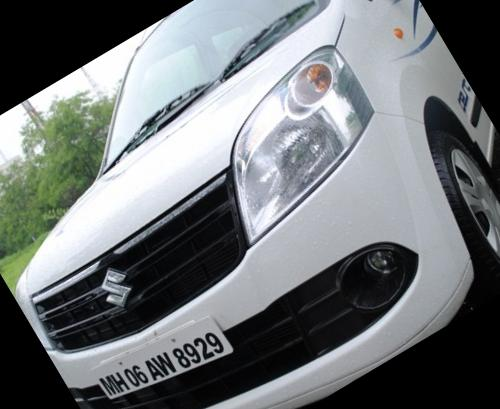plate: (87, 297, 239, 409)
